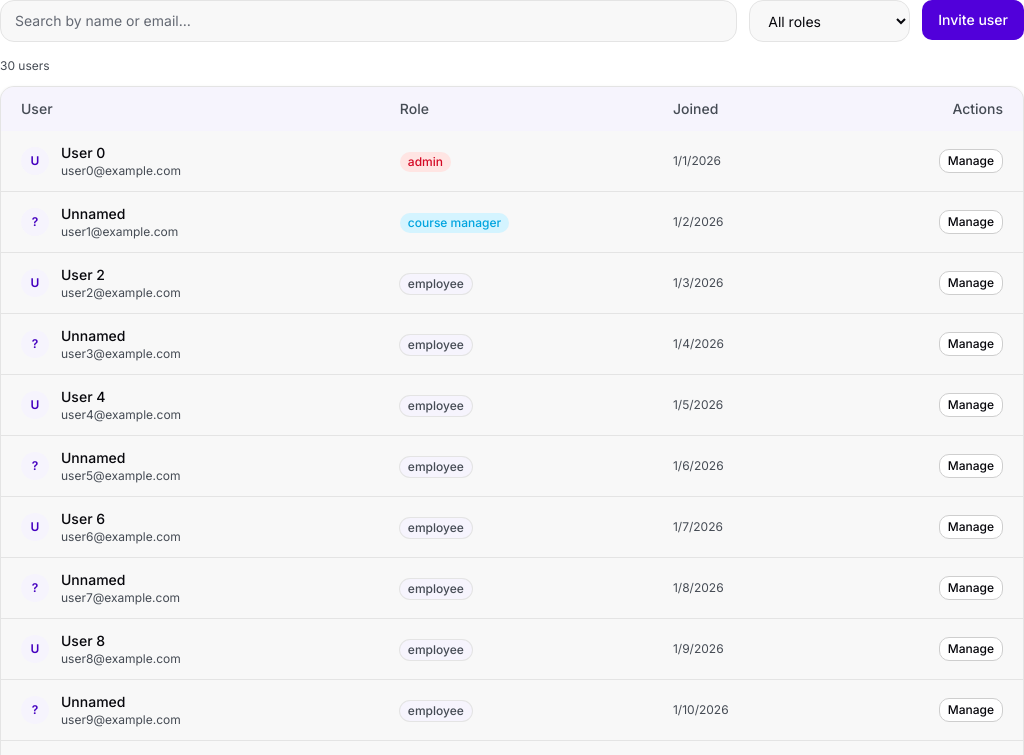
UserList › shows the no-results state when search matches nothing
This screenshot has width=1024, height=755.
In the field with placeholder "Search by name or email…": (369, 21) x1=0 y1=0 x2=737 y2=42, type "definitely-not-in-the-data"
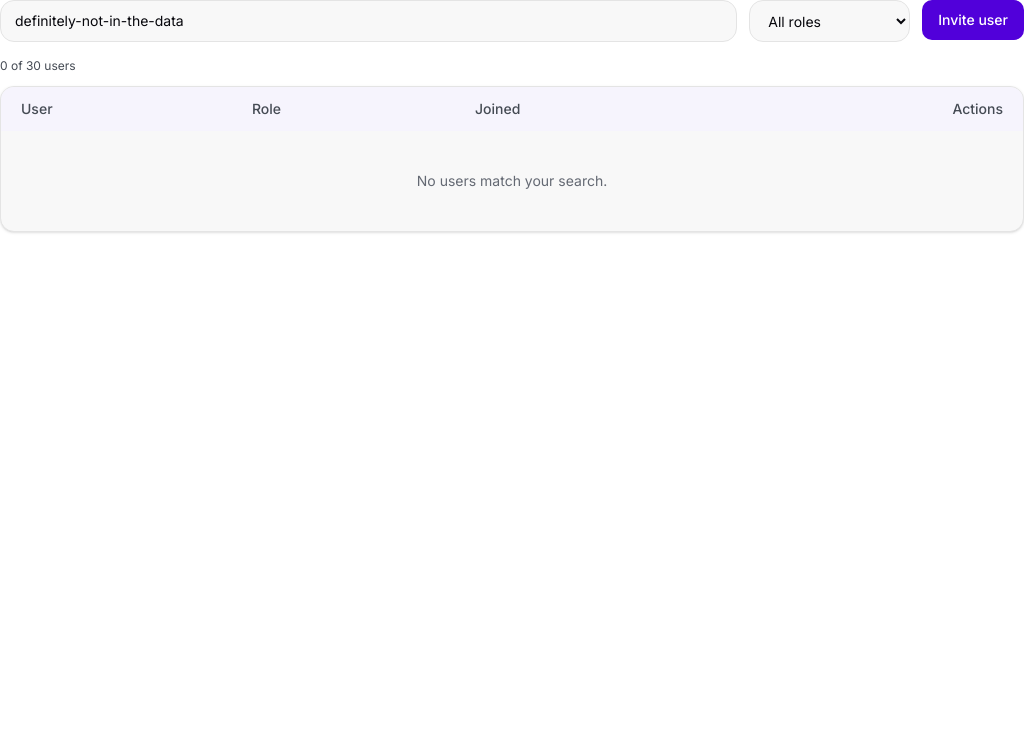
Check: the text "No users match your search." is shown, box x1=1 y1=131 x2=1023 y2=231
